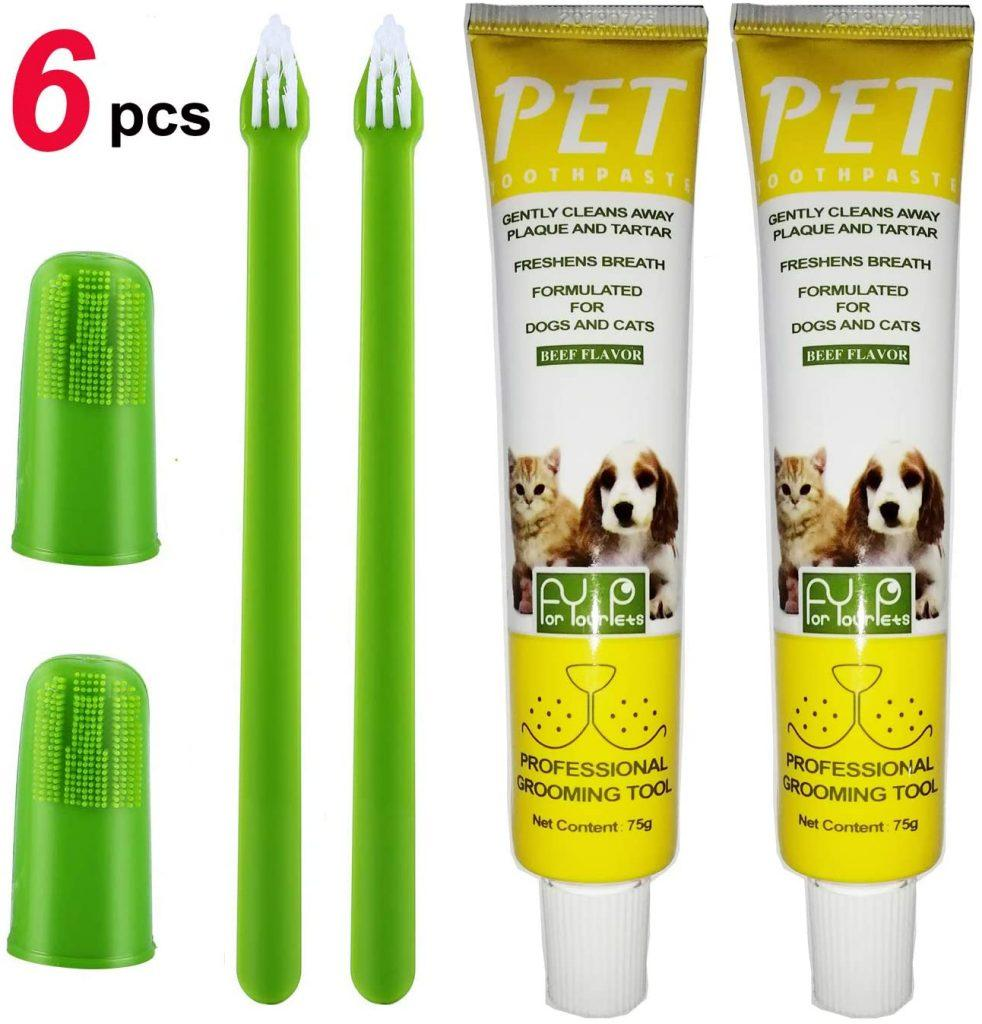toothpaste: (445, 0, 698, 1024), (730, 0, 982, 1018)
